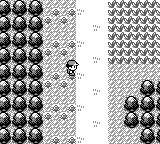captura: (108, 1, 159, 64)
main: (66, 61, 79, 75)
no-caminable: (0, 0, 43, 144), (124, 80, 159, 143)
